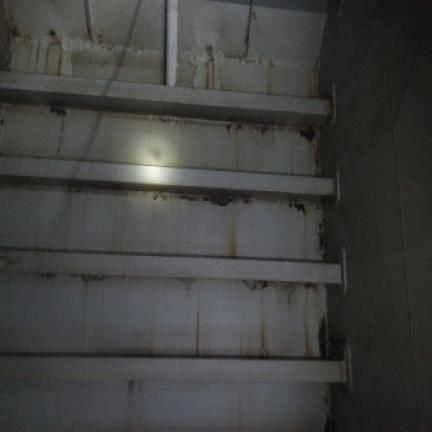besi_tidak_karat: (0, 2, 326, 421)
